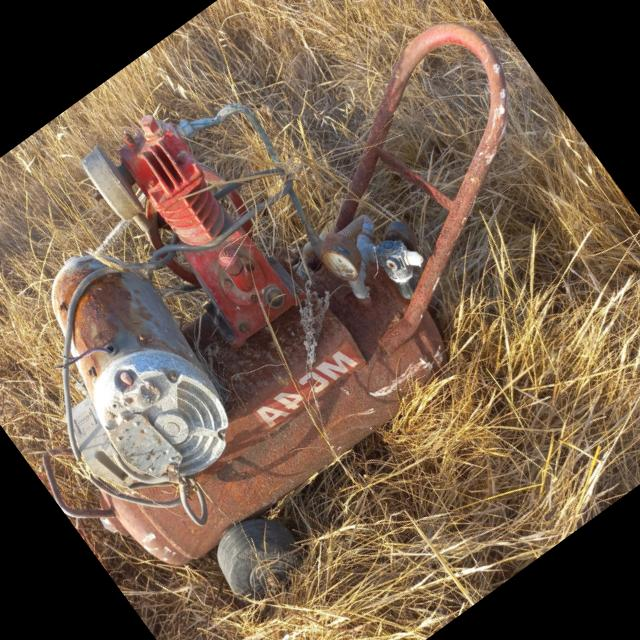Other litter: (37, 18, 512, 609)
